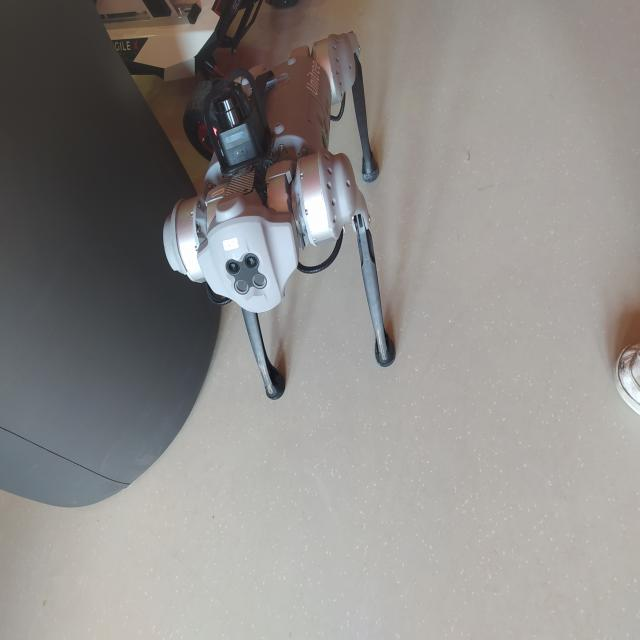unitree-go1-robot: (140, 14, 406, 419)
